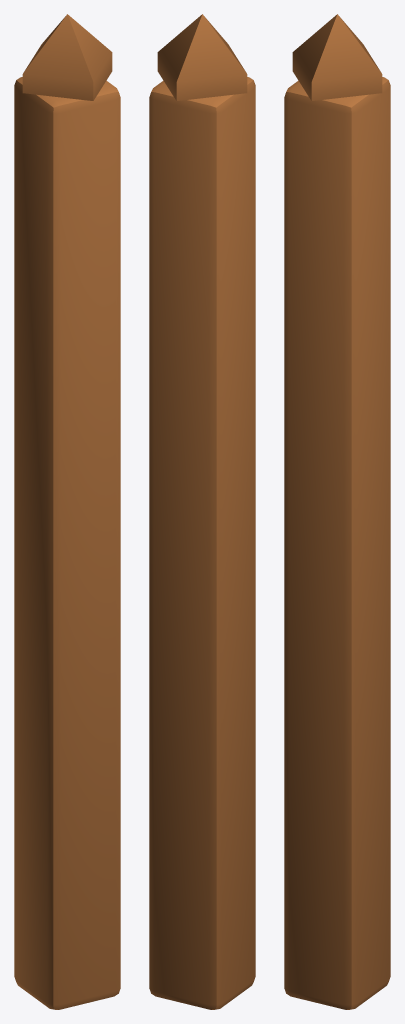
File: cerca_ripada_fim.glb
3 renders of one model, left to right at view 1: azimuth 30°, elevation 25°; view 2: azimuth 150°, elevation 25°; view 3: azimuth 330°, elevation 25°, orthographic.
Visible parts, largest first — view 1: cerca_ripada_fim; view 2: cerca_ripada_fim; view 3: cerca_ripada_fim.
Boxes of the visible parts, x1,y1,x2,y2 form: cerca_ripada_fim: (14, 14, 120, 1009); cerca_ripada_fim: (149, 14, 255, 1009); cerca_ripada_fim: (284, 14, 390, 1009).
Size of the model in its own units: 0.124 by 1.29 by 0.124.
Materials: 1 (1 with a texture image).
